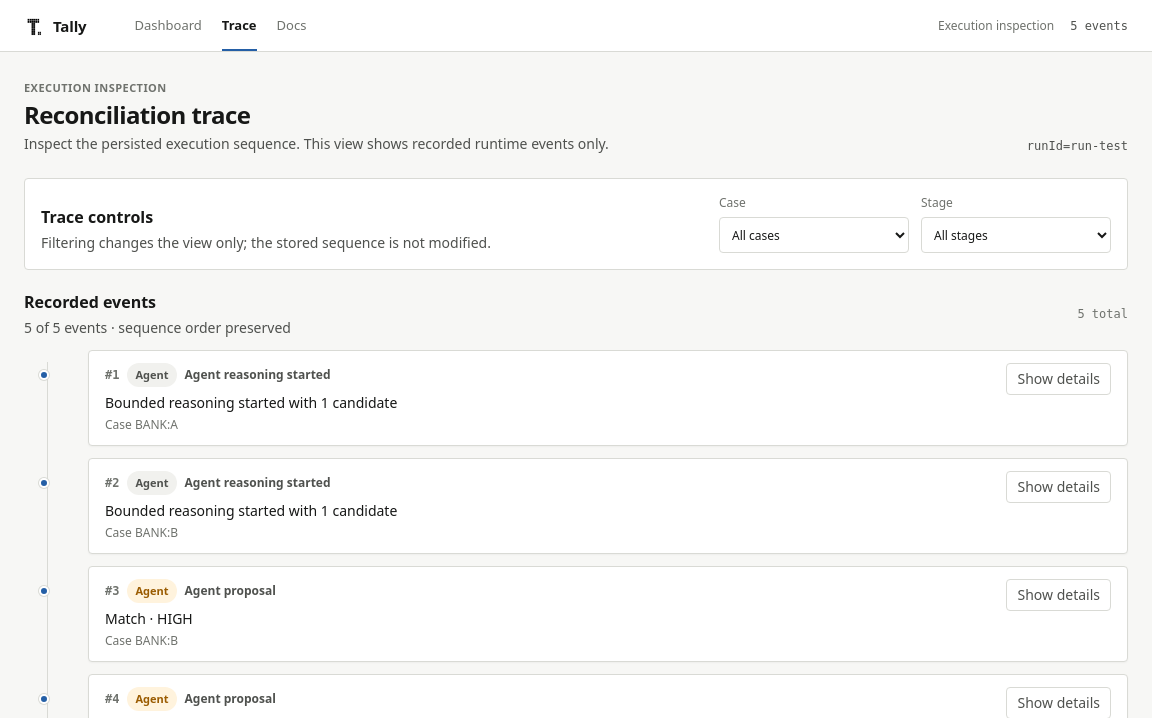
T032 reconciliation trace › preserves concurrent agent interleaving and filters cases client-side
Select "BANK:A" in the dropdown labelled "Case": (814, 235) x1=719 y1=217 x2=909 y2=253
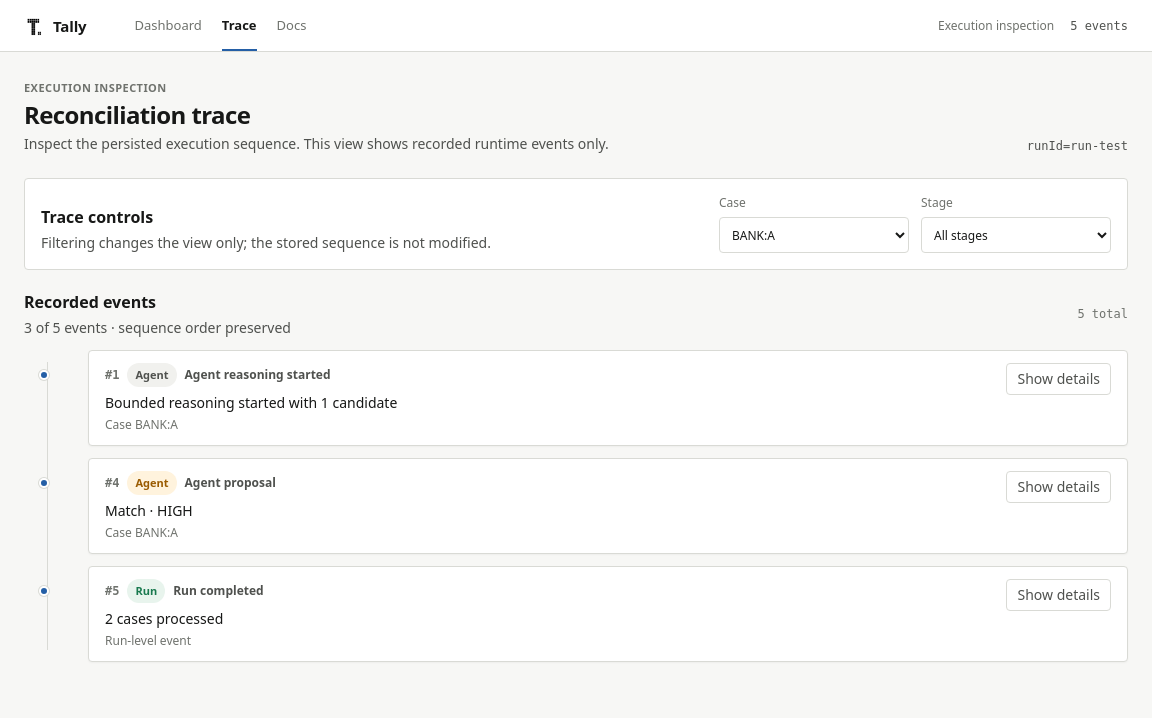
Expected: the text "Run-level event" is shown, x1=105 y1=632 x2=191 y2=649
Expected: the number of list items is 3, x1=24 y1=350 x2=1128 y2=446; x1=24 y1=458 x2=1128 y2=554; x1=24 y1=566 x2=1128 y2=662
Expected: the text "Case BANK:B" is gone
